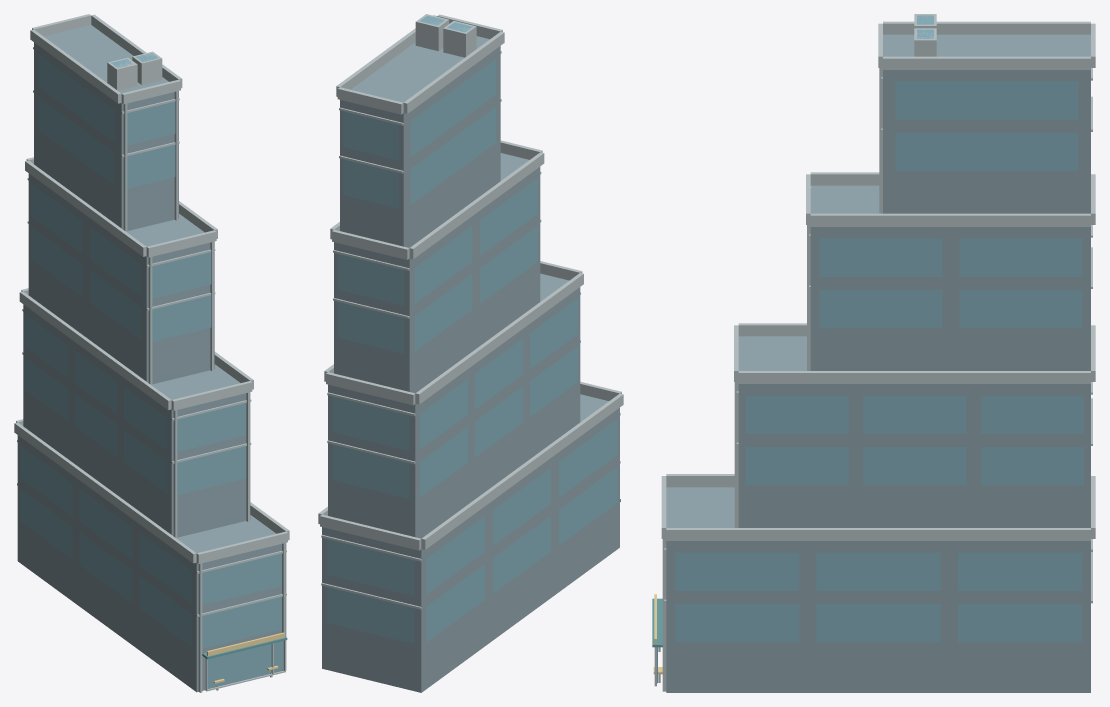
File: commercial_1x3_terraces.glb
The picture shows the model from 3 angles, left to right: view 1: azimuth 30°, elevation 25°; view 2: azimuth 150°, elevation 25°; view 3: azimuth 270°, elevation 25°; orthographic projection. The views are drawn at different scales.
Parts seen in each view (by area): view 1: commercial_1x3_terraces_0; view 2: commercial_1x3_terraces_0; view 3: commercial_1x3_terraces_0.
Boxes of the visible parts, x1,y1,x2,y2 form: commercial_1x3_terraces_0: (14,14,289,692); commercial_1x3_terraces_0: (318,14,623,692); commercial_1x3_terraces_0: (652,14,1095,692).
Bounding box in the file's own units: 7 × 37.5 × 23.5.
